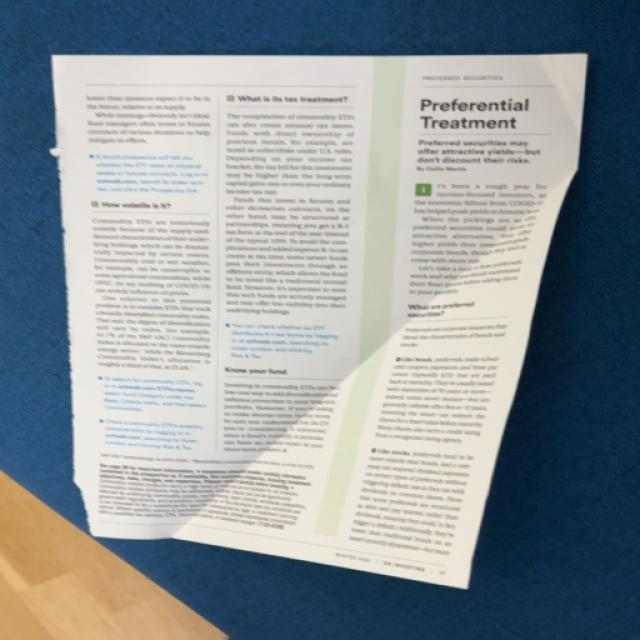document: (54, 56, 586, 588)
